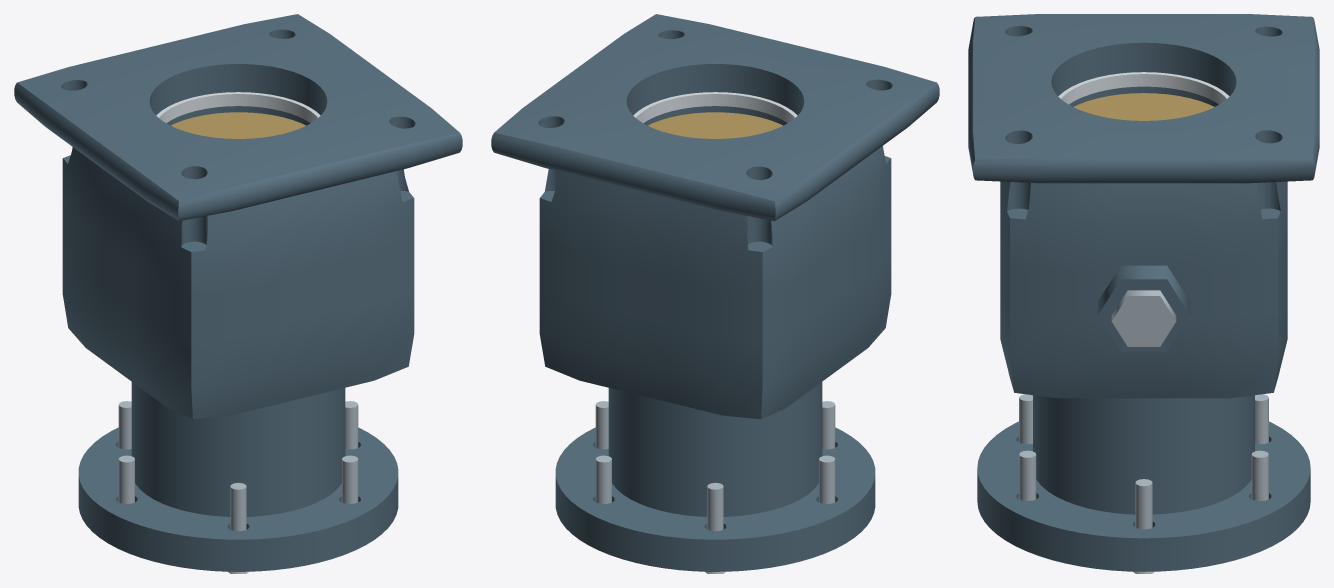
File: check.glb
3 views of the same model, side by side, from view 1: azimuth 30°, elevation 25°; view 2: azimuth 150°, elevation 25°; view 3: azimuth 270°, elevation 25° (orthographic). The views are drawn at different scales.
Parts seen in each view (by area): view 1: Thân đúc, Thân van một chiều, Đĩa nấm, Đế van, đĩa nấm và lò xo (minh họa); view 2: Thân đúc, Thân van một chiều, Đĩa nấm, Đế van, đĩa nấm và lò xo (minh họa); view 3: Thân đúc, Thân van một chiều, Nút xả bên hông, Đĩa nấm, Đế van, đĩa nấm và lò xo (minh họa).
Boxes of the visible parts, x1=… form: Thân đúc: x1=14, y1=14, x2=462, y2=571; Thân van một chiều: x1=118, y1=401, x2=358, y2=573; Đĩa nấm: x1=171, y1=112, x2=305, y2=138; Đế van, đĩa nấm và lò xo (minh họa): x1=156, y1=92, x2=320, y2=123; Thân đúc: x1=491, y1=14, x2=939, y2=571; Thân van một chiều: x1=595, y1=401, x2=835, y2=573; Đĩa nấm: x1=648, y1=112, x2=782, y2=138; Đế van, đĩa nấm và lò xo (minh họa): x1=633, y1=92, x2=797, y2=123; Thân đúc: x1=968, y1=14, x2=1319, y2=571; Thân van một chiều: x1=1019, y1=394, x2=1268, y2=573; Nút xả bên hông: x1=1111, y1=290, x2=1176, y2=346; Đĩa nấm: x1=1074, y1=93, x2=1213, y2=120; Đế van, đĩa nấm và lò xo (minh họa): x1=1058, y1=72, x2=1229, y2=104.
Size of the model in its own units: 0.7898 by 1.03 by 0.7596.
